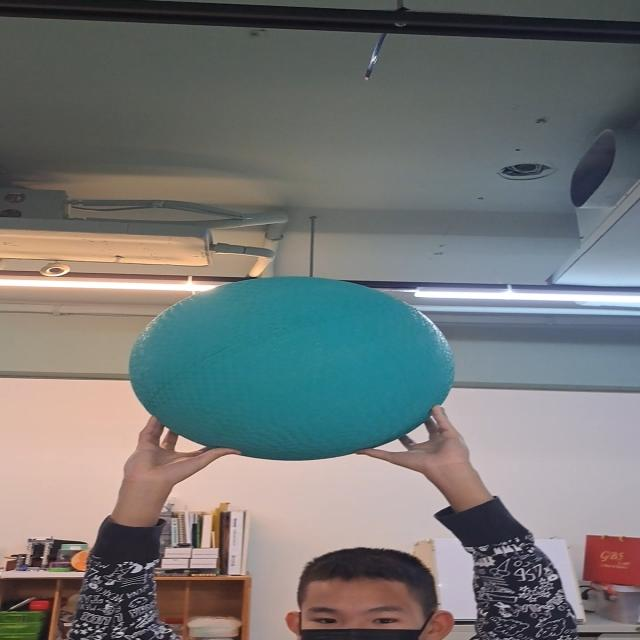ALGAE: (127, 275, 456, 459)
